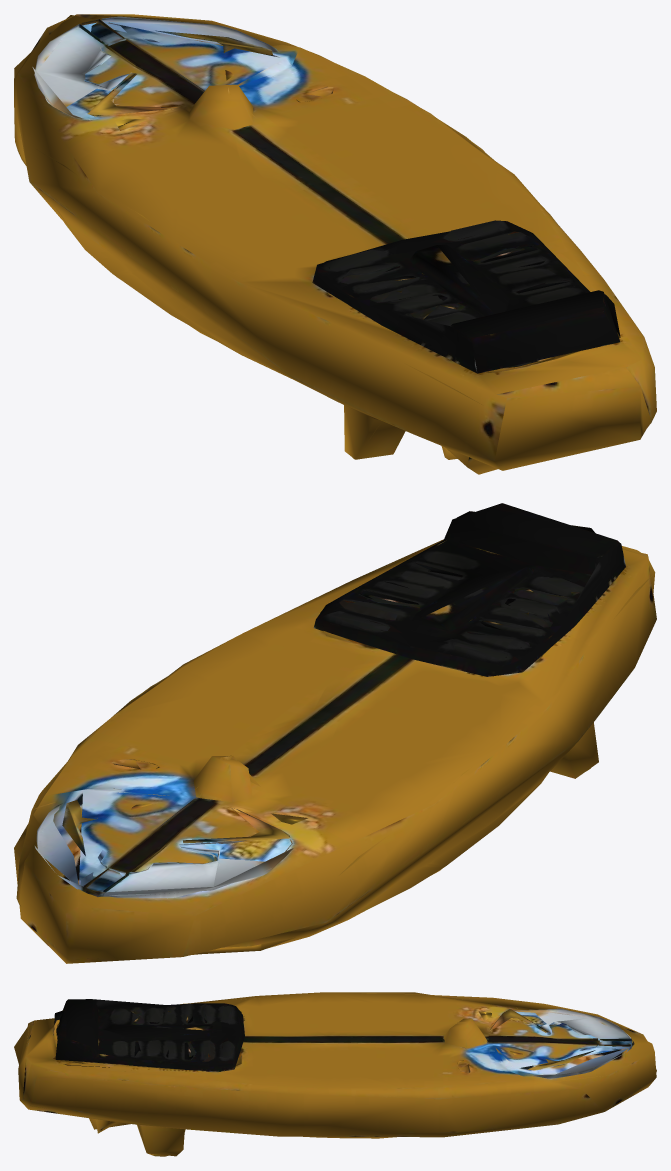
File: veh_surf.glb
3 renders of one model, top to bottom at view 1: azimuth 30°, elevation 25°; view 2: azimuth 150°, elevation 25°; view 3: azimuth 270°, elevation 25°, orthographic. The views are drawn at different scales.
Visible parts, largest first — view 1: geometry_0; view 2: geometry_0; view 3: geometry_0.
Part boxes in pixels (x1,y1,x2,y2): geometry_0: (14, 14, 656, 474); geometry_0: (14, 503, 656, 963); geometry_0: (14, 992, 656, 1156).
Bounding box in the file's own units: 1.6 × 0.7415 × 4.16.
1 material, 1 textured.
